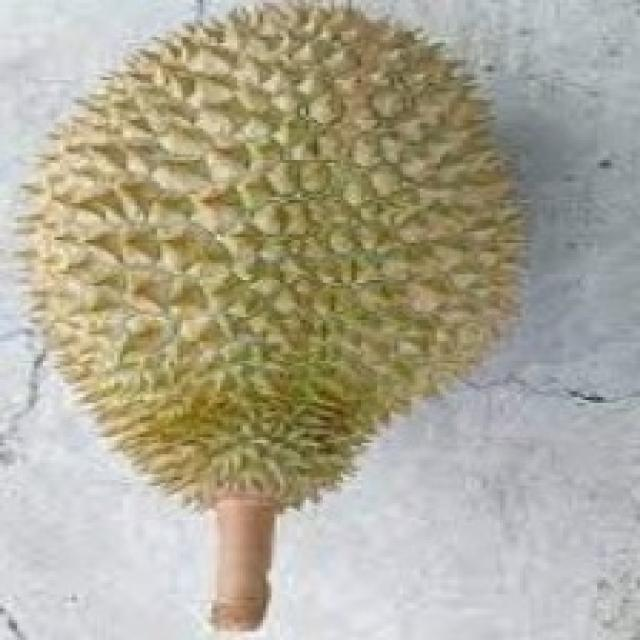d2: (50, 16, 524, 615)
